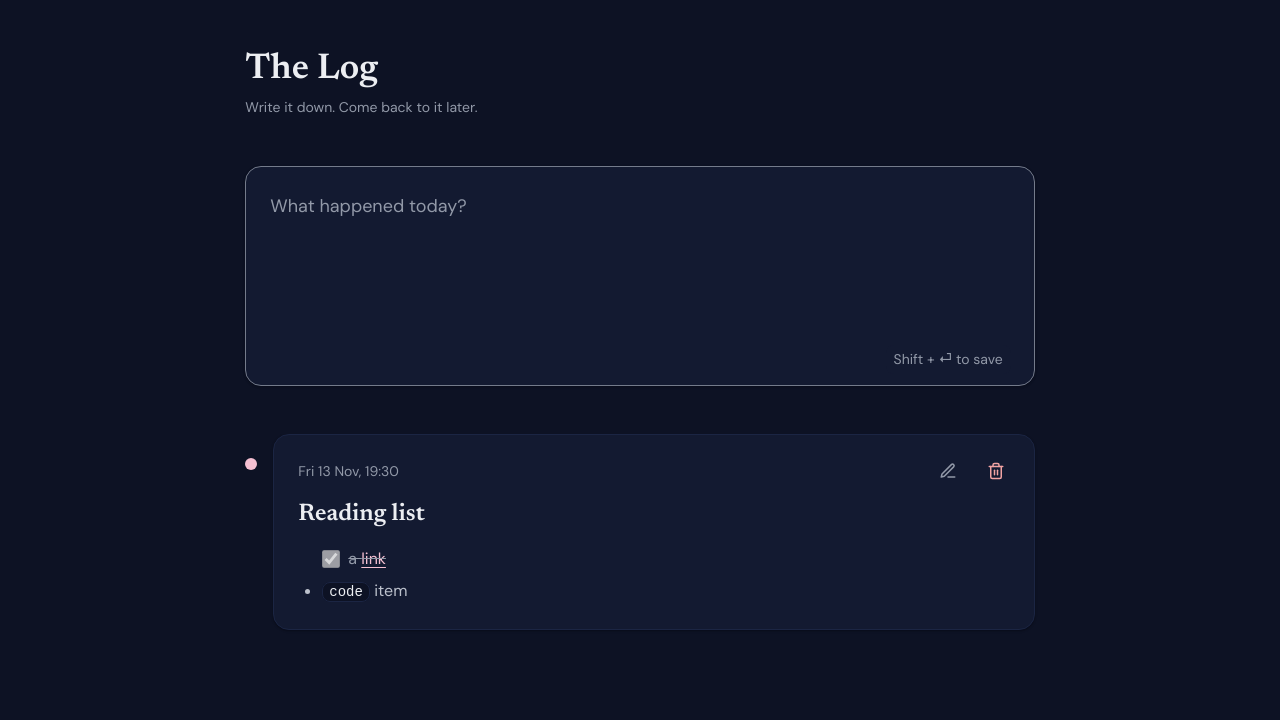
Test: shows a thought written in markdown as plain text with a leading header as the title
Click the button named "Delete thought, Fri 13 Nov, 19:30". click: (996, 471)
box: x1=974 y1=449 x2=1018 y2=493
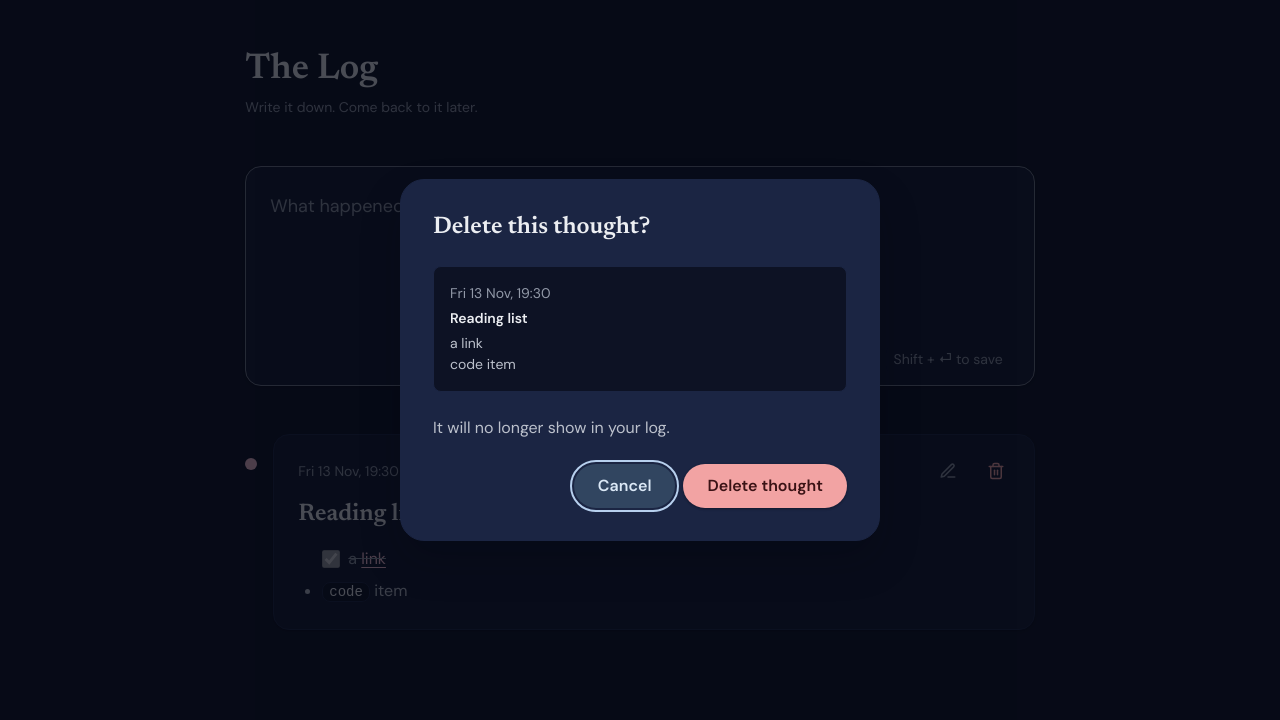
Expected: the text with class "delete-dialog__heading" reads "Reading list", x1=450 y1=309 x2=528 y2=327
